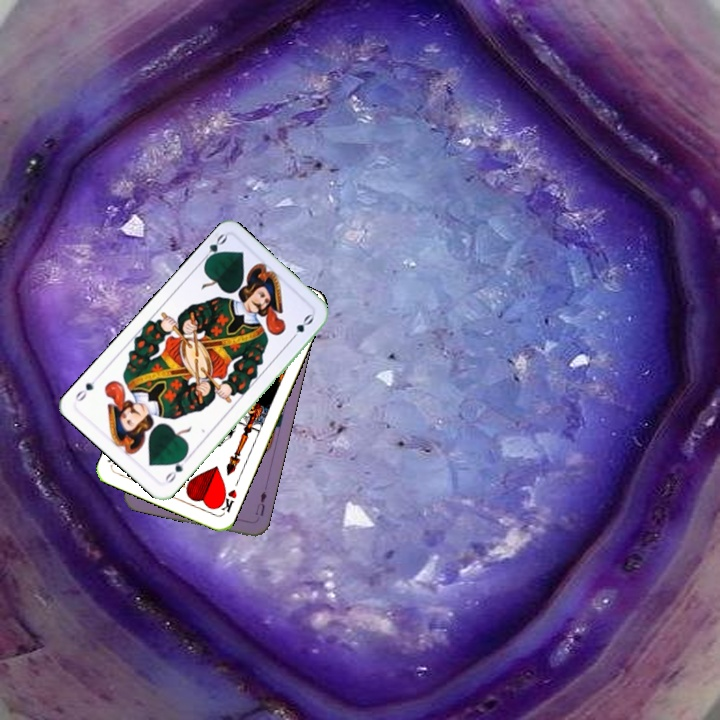EU: (251, 487, 269, 519)
GO: (197, 230, 229, 267), (161, 451, 189, 486)
HK: (214, 485, 239, 516)
